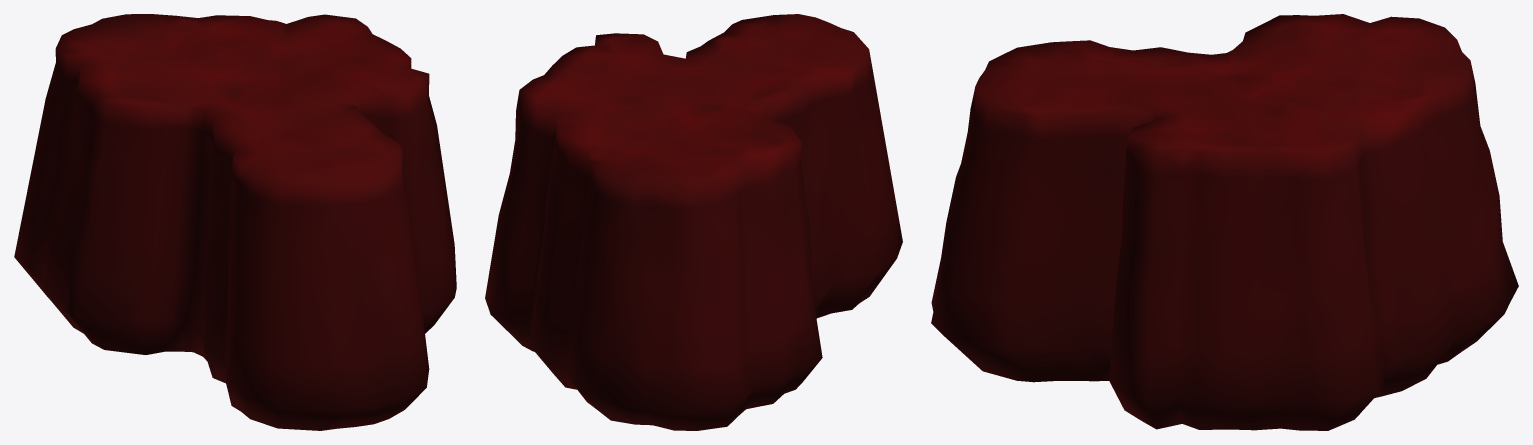
Rendered from geology-landforms-rockmesalarge_v2.fbx.
3 renders of one model, left to right at view 1: azimuth 30°, elevation 25°; view 2: azimuth 150°, elevation 25°; view 3: azimuth 270°, elevation 25°, orthographic. The views are drawn at different scales.
Visible parts, largest first — view 1: RockMesaLarge_v2; view 2: RockMesaLarge_v2; view 3: RockMesaLarge_v2.
Boxes of the visible parts, <box> form: RockMesaLarge_v2: <box>14,14,456,430</box>; RockMesaLarge_v2: <box>485,14,902,430</box>; RockMesaLarge_v2: <box>931,14,1518,430</box>.
Size of the model in its own units: 42.25 by 31.47 by 60.87.
